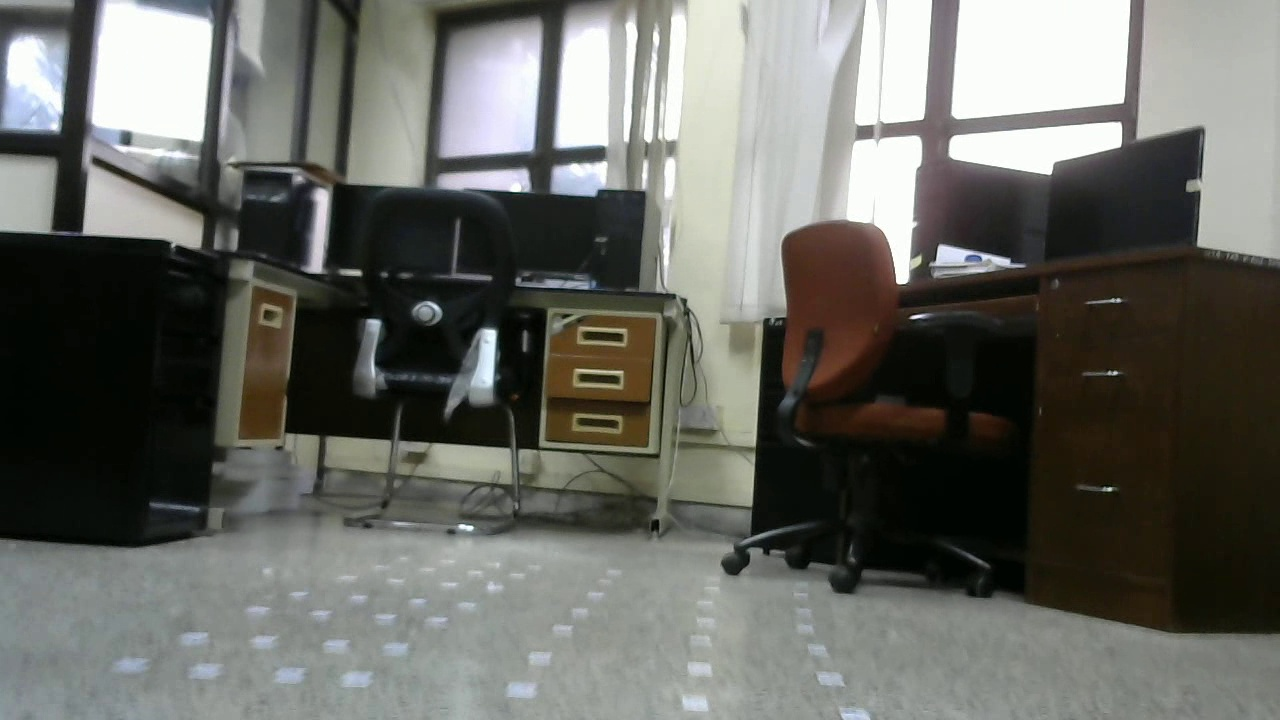chair: (719, 221, 1003, 605), (338, 184, 530, 541)
